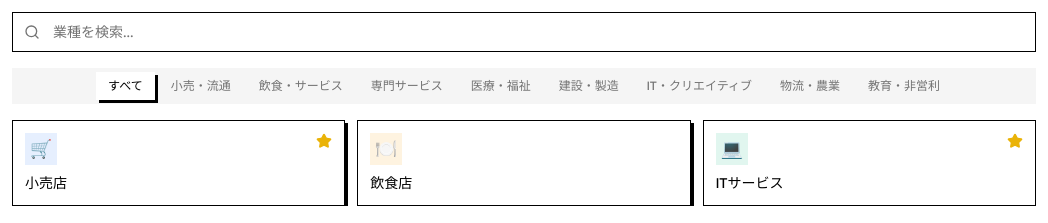
Test case: IndustrySelector › should filter by description
The width and height of the screenshot is (1048, 223).
Type "レストラン" into the field with placeholder "業種を検索...".
click(524, 32); type("レストラン")  # box 12,12 -> 1036,52
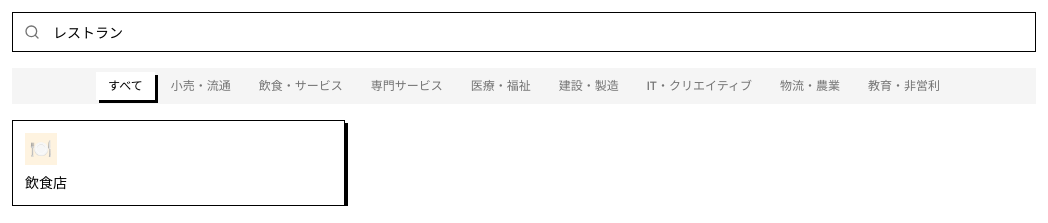
Expected: the heading "飲食店" is shown, 25,174 -> 67,192
Result: the heading "小売店" is gone
